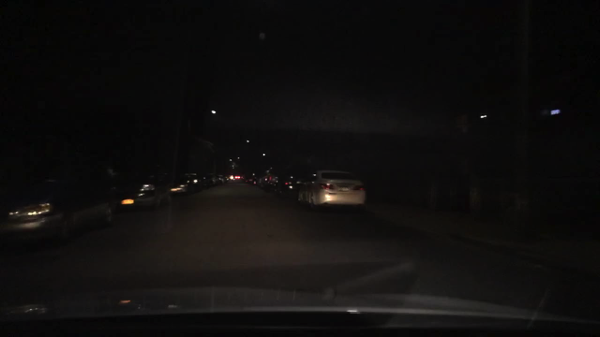car: (0, 179, 121, 242), (297, 169, 367, 210), (117, 166, 173, 211), (278, 173, 308, 199), (171, 174, 195, 194), (263, 170, 279, 191), (193, 176, 206, 190), (207, 174, 220, 184), (247, 174, 258, 185), (257, 174, 263, 186), (219, 176, 228, 183), (235, 175, 242, 181)
